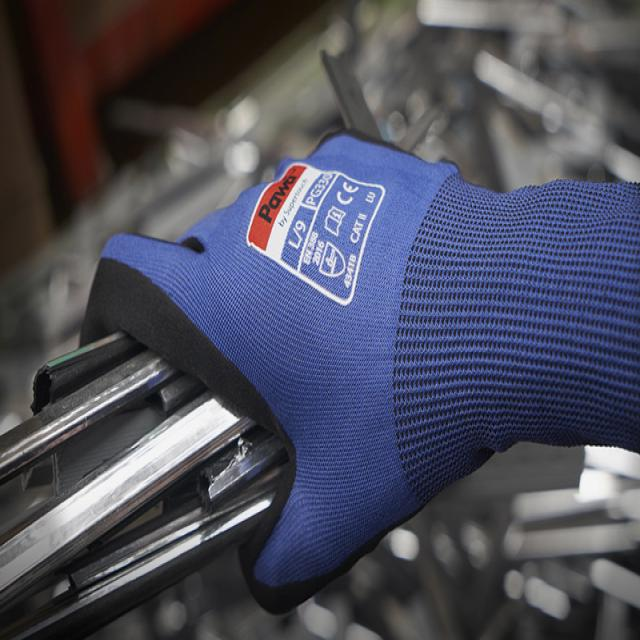gloves: (80, 132, 638, 605)
